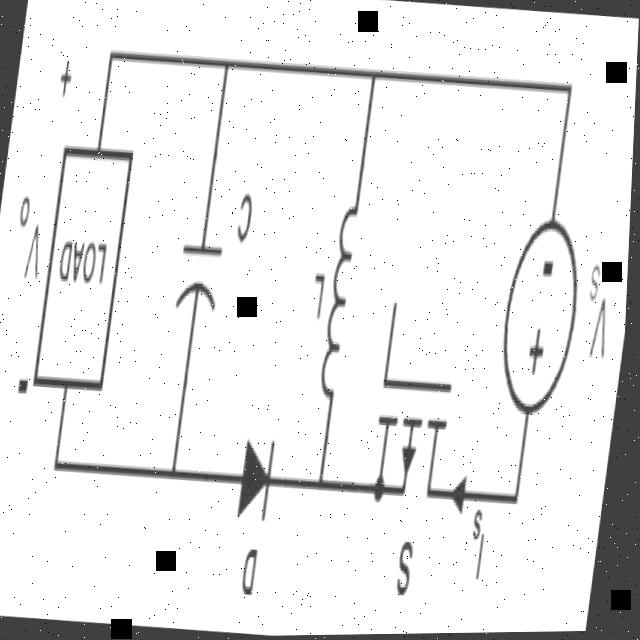capacitor: (167, 209, 235, 346)
diode: (222, 421, 297, 544)
inductor: (305, 175, 378, 438)
mosfet: (358, 291, 469, 529)
node: (369, 462, 394, 516)
resistor: (24, 121, 142, 424)
source: (490, 207, 592, 429)
